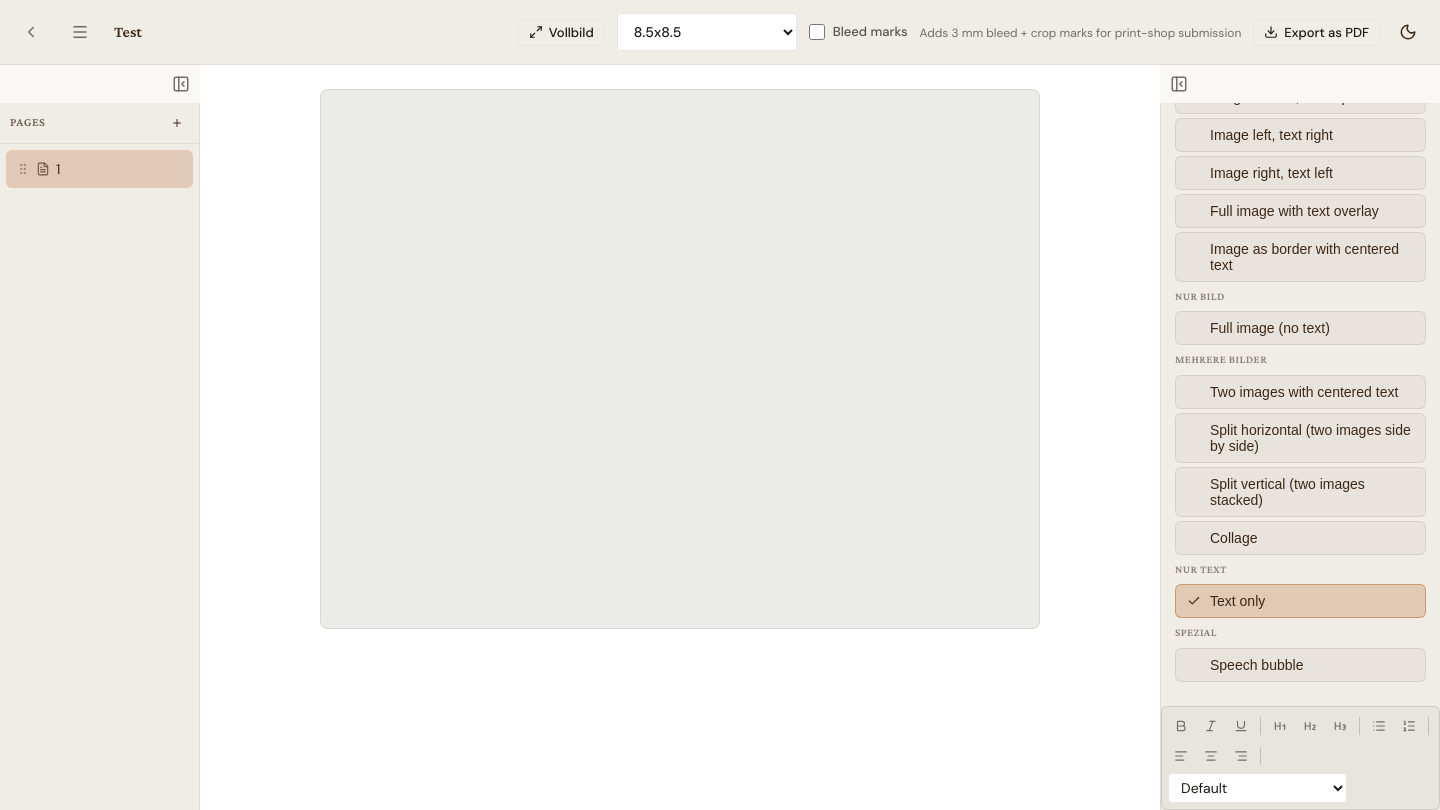
Test: PageEditor RichTextToolbar wiring (Session 4c-B-1 Commit 3) › changing the active page's layout from TipTap to Tier-Property unmounts the Toolbar in place
(page scrolled)
Expected: the element with test id "page-editor-toolbar-root" is shown, [1161, 706, 1439, 809]
Click the button with test id "page-editor-layout-option-speech_bubble": point(1300, 665) [1175, 648, 1426, 682]
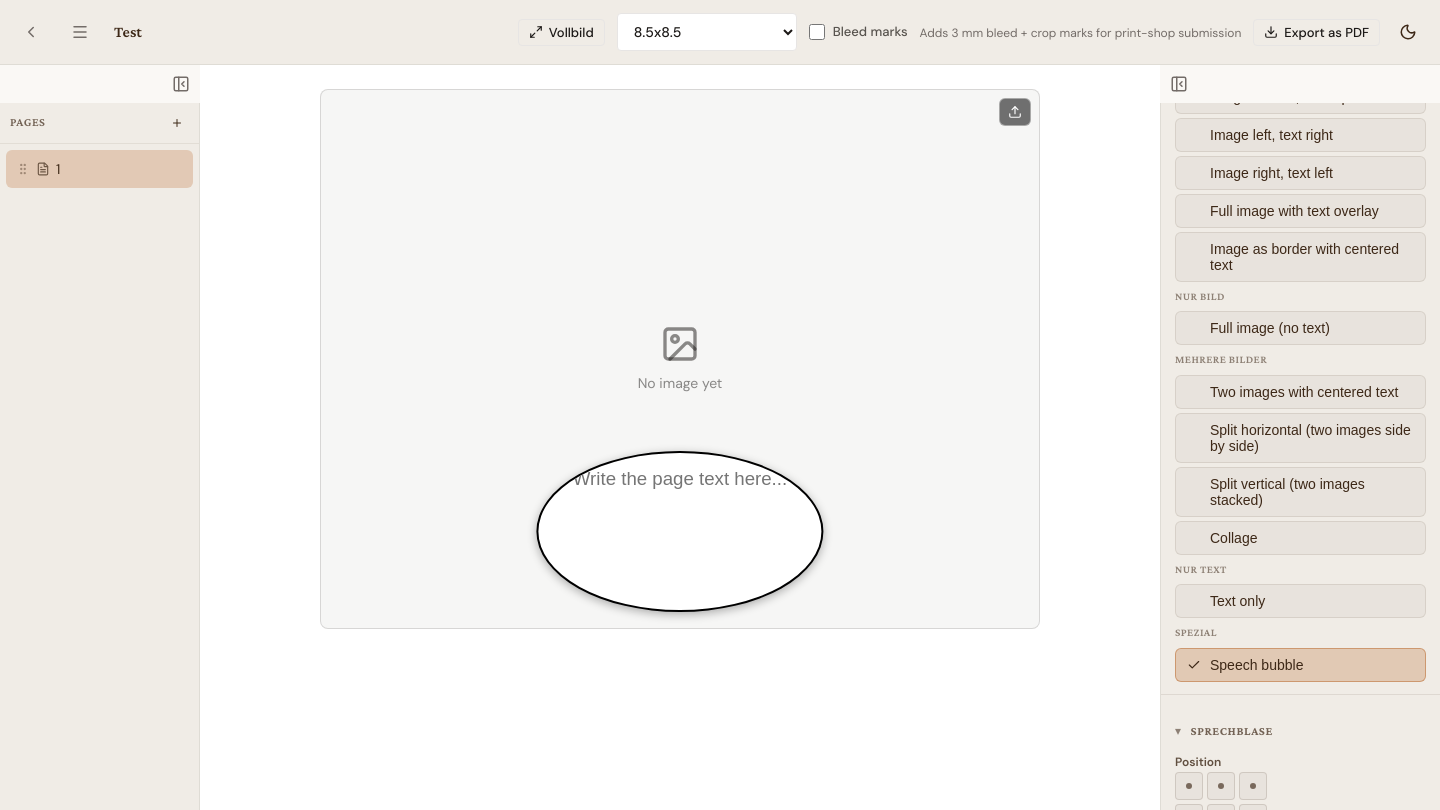
Result: the element with test id "page-editor-toolbar-root" is gone
